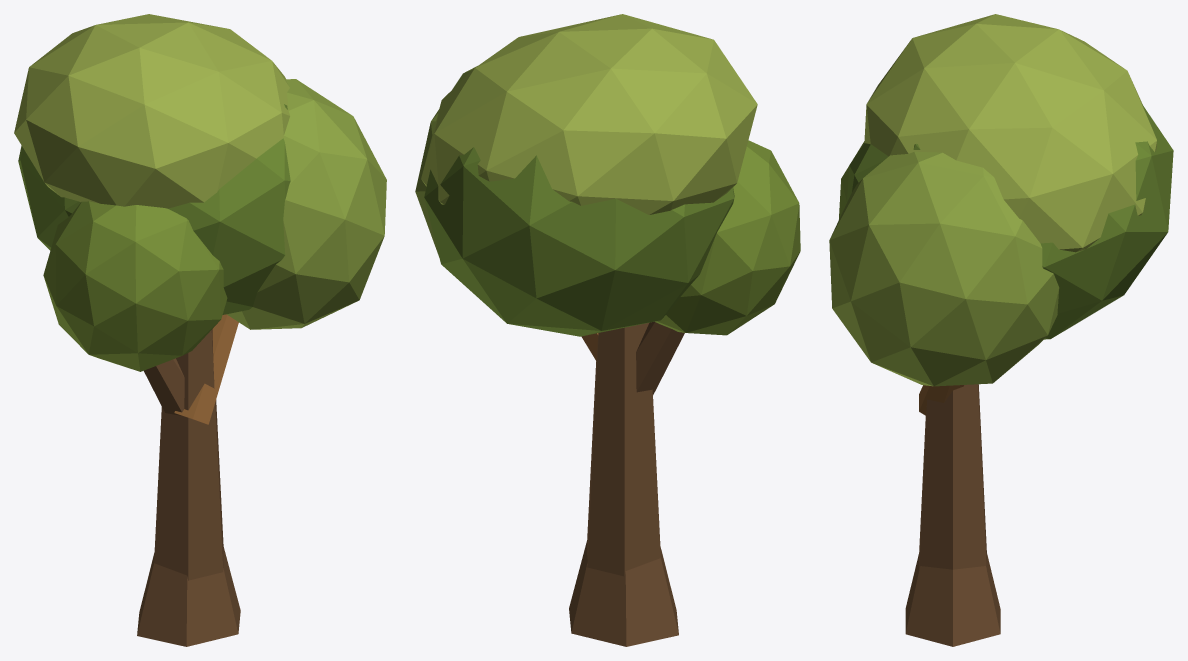
Rendered from tree-canopy-13.gltf.
3 views of the same model, side by side, from view 1: azimuth 30°, elevation 25°; view 2: azimuth 150°, elevation 25°; view 3: azimuth 270°, elevation 25° (orthographic). The views are drawn at different scales.
Parts seen in each view (by area): view 1: tree-canopy-13; view 2: tree-canopy-13; view 3: tree-canopy-13.
Boxes of the visible parts, <box> form: tree-canopy-13: <box>14,14,386,646</box>; tree-canopy-13: <box>415,14,800,646</box>; tree-canopy-13: <box>829,14,1173,646</box>.
Bounding box in the file's own units: 1.01 × 1.71 × 0.9231.
